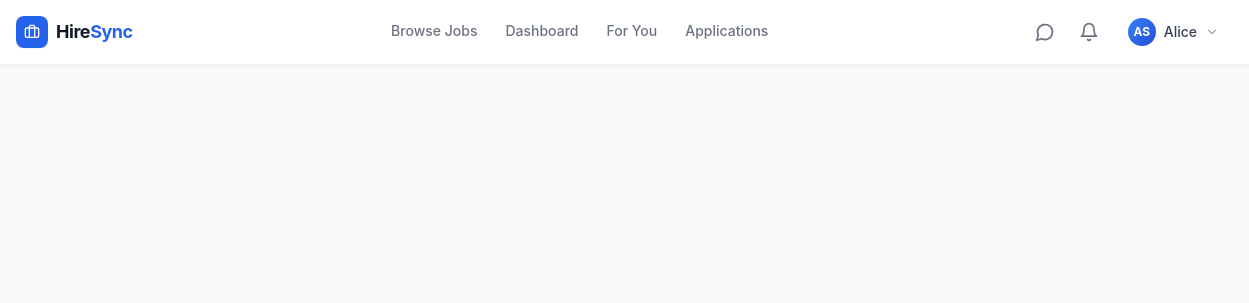
Test case: Navbar — dropdown and mobile interactions › seeker: profile button opens profile dropdown
This screenshot has width=1249, height=303.
Expected: the text "Alice" is shown, [1164, 22, 1197, 42]
Note: Click the profile button (contains the first name)
Click the button "AS Alice" at point(1175, 32), box [1119, 11, 1232, 53]
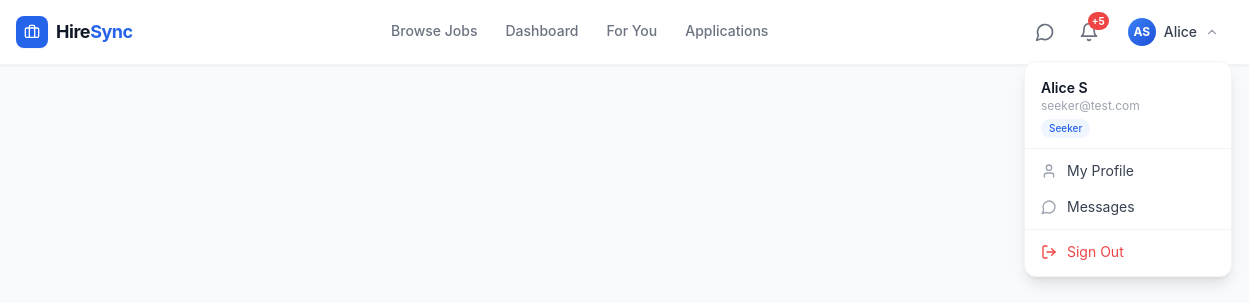
Expected: the text "Sign Out" is shown, [1025, 234, 1231, 270]
